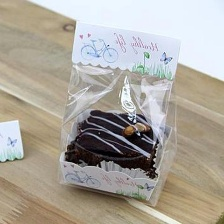snack: (52, 14, 190, 209)
